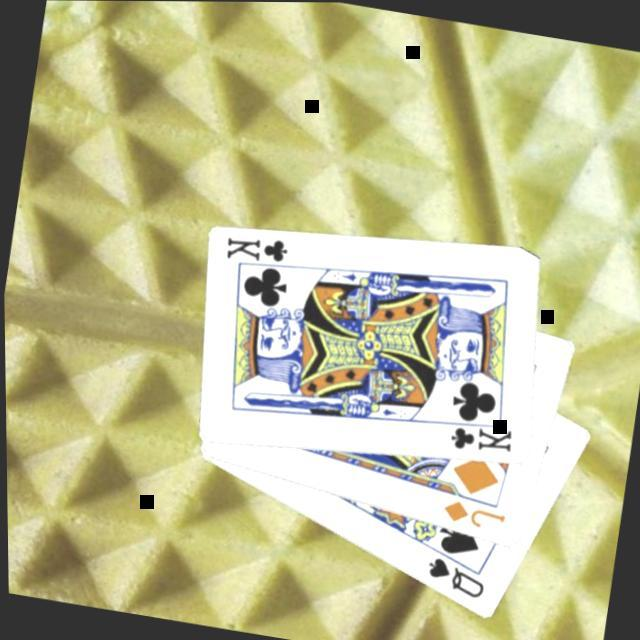JD: (436, 492, 508, 532)
KC: (218, 226, 300, 276), (436, 409, 516, 458)
QS: (417, 550, 490, 600)
